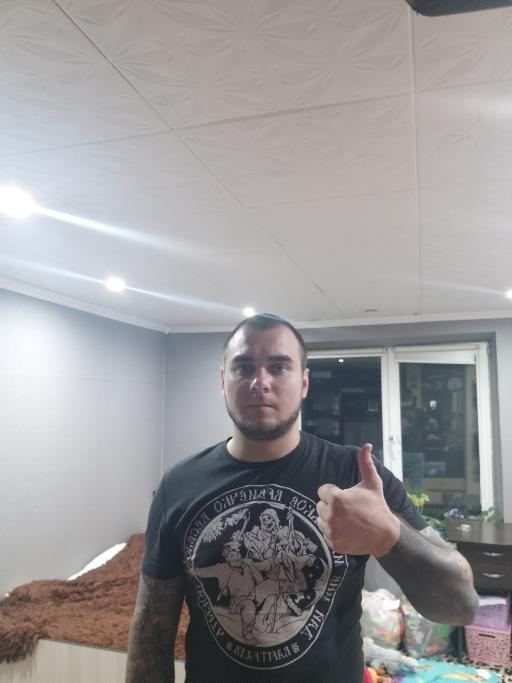like: (312, 439, 397, 560)
